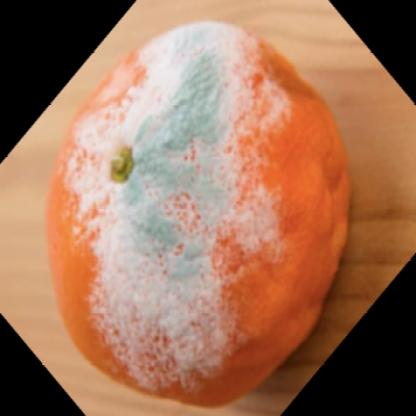rotten: (49, 24, 344, 406)
